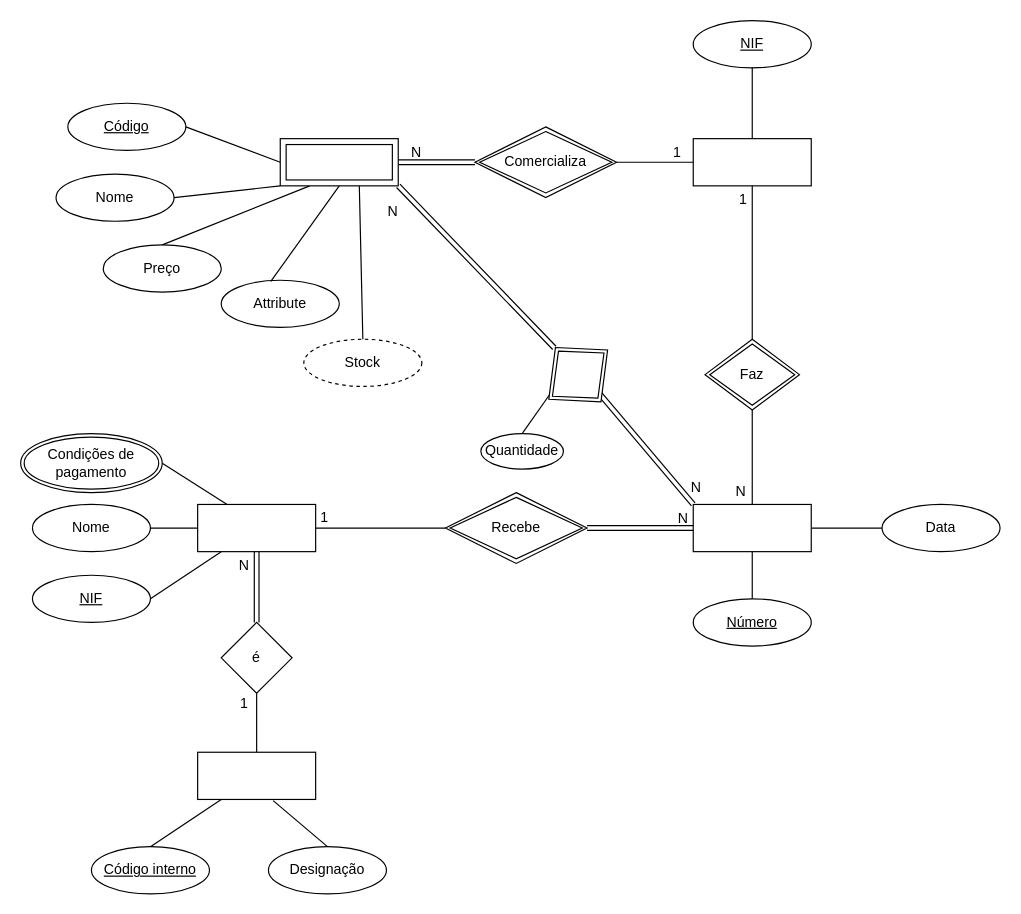
Image size: 1021x914. Some labels were removed from this diagram. Here are the shapes that lost their labels. From the top down, the centre of each, then its label:
At point (338, 161): "Produto".
At point (751, 161): "Empresa".
At point (578, 374): "Possui".
At point (256, 527): "Fornecedor".
At point (751, 527): "Encomenda".
At point (256, 775): "Tipo de fornecedor".
